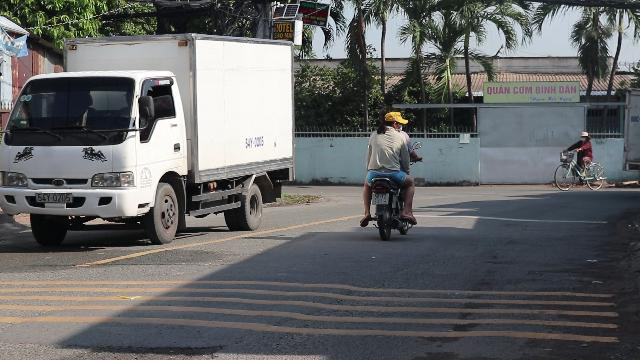licenseplate: (372, 193, 388, 204)
motorcyclist: (356, 109, 419, 239)
nohelmet: (383, 110, 409, 132)
